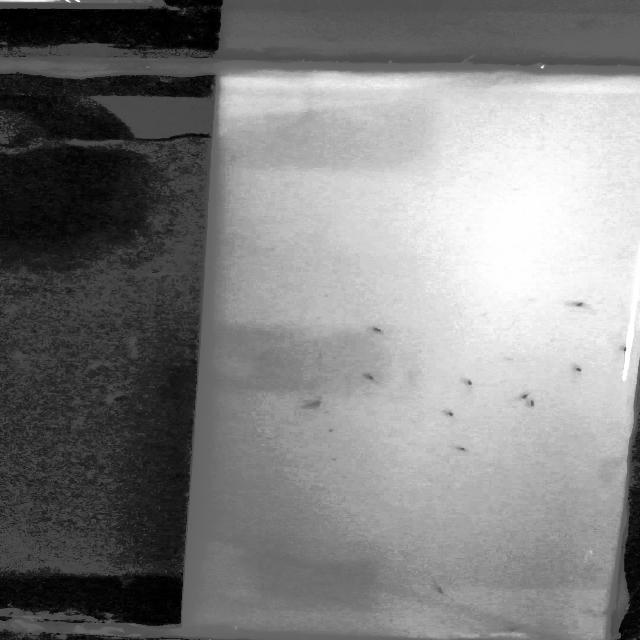shrimp: (359, 322, 394, 342), (442, 437, 479, 454), (437, 406, 467, 425), (567, 363, 593, 381), (361, 369, 381, 386), (446, 378, 481, 387), (524, 398, 542, 412), (518, 390, 542, 400)
